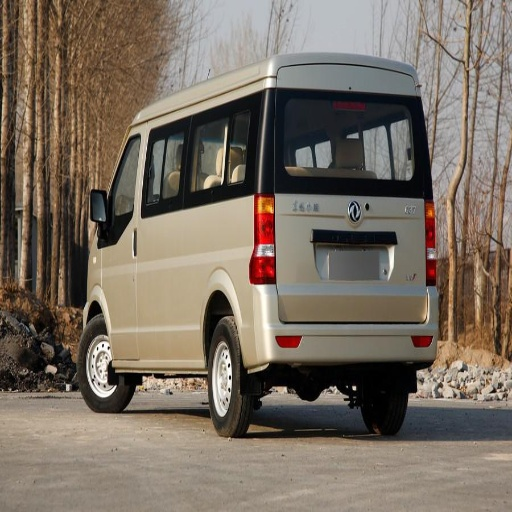back_bumper: (248, 285, 436, 363)
back_left_light: (249, 186, 274, 284)
back_right_door: (195, 95, 253, 177)
tailgate: (276, 167, 422, 285)
trunk: (162, 199, 425, 348)
